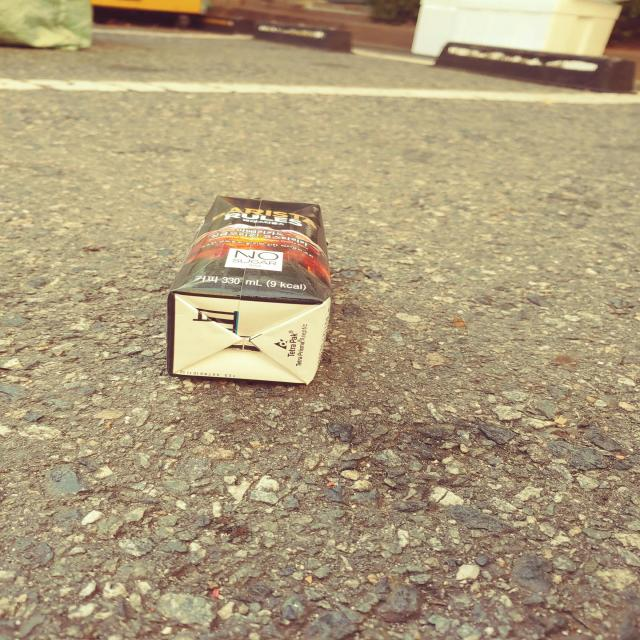paperpack: (167, 196, 331, 384)
